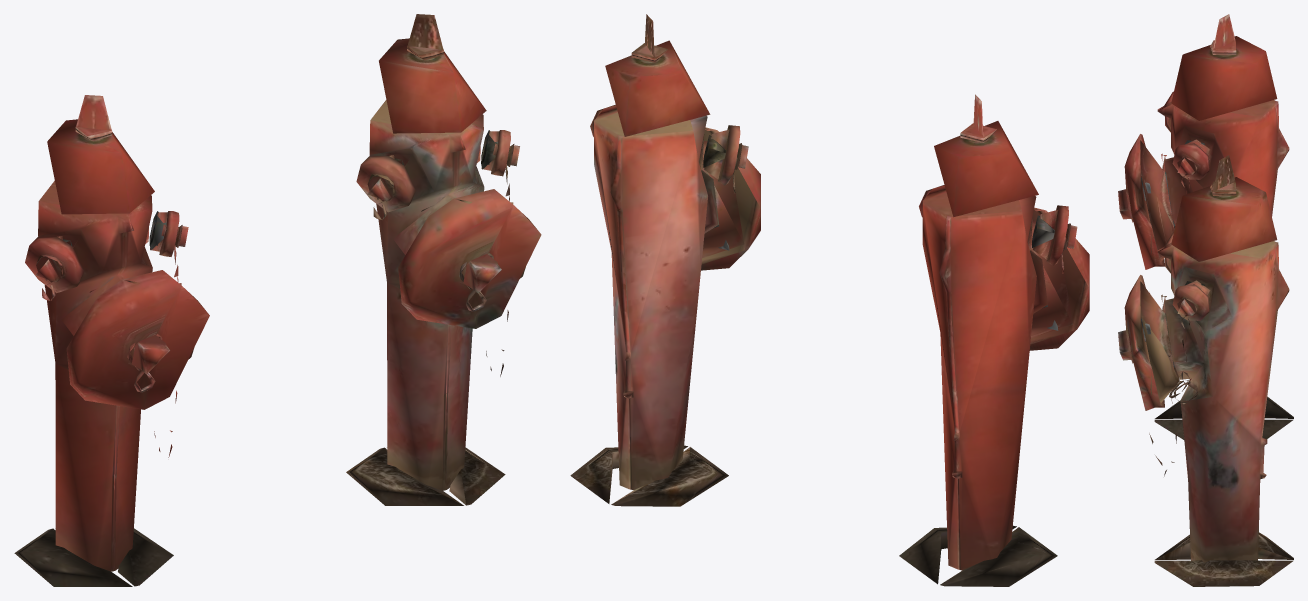
File: scene-hydrant.glb
The picture shows the model from 3 angles, left to right: view 1: azimuth 30°, elevation 25°; view 2: azimuth 150°, elevation 25°; view 3: azimuth 270°, elevation 25°; orthographic projection. The views are drawn at different scales.
Parts seen in each view (by area): view 1: fire_hydrant, fire_hydrant_aged; view 2: fire_hydrant, fire_hydrant_aged; view 3: fire_hydrant_aged, fire_hydrant.
Boxes of the visible parts, x1,y1,x2,y2 form: fire_hydrant: (14, 95, 209, 586); fire_hydrant_aged: (346, 14, 541, 505); fire_hydrant: (899, 94, 1089, 586); fire_hydrant_aged: (570, 14, 760, 506); fire_hydrant_aged: (1118, 155, 1293, 586); fire_hydrant: (1118, 14, 1293, 439).
Bounding box in the file's own units: 0.8728 × 0.7992 × 0.3163.
2 materials, 2 textured.
